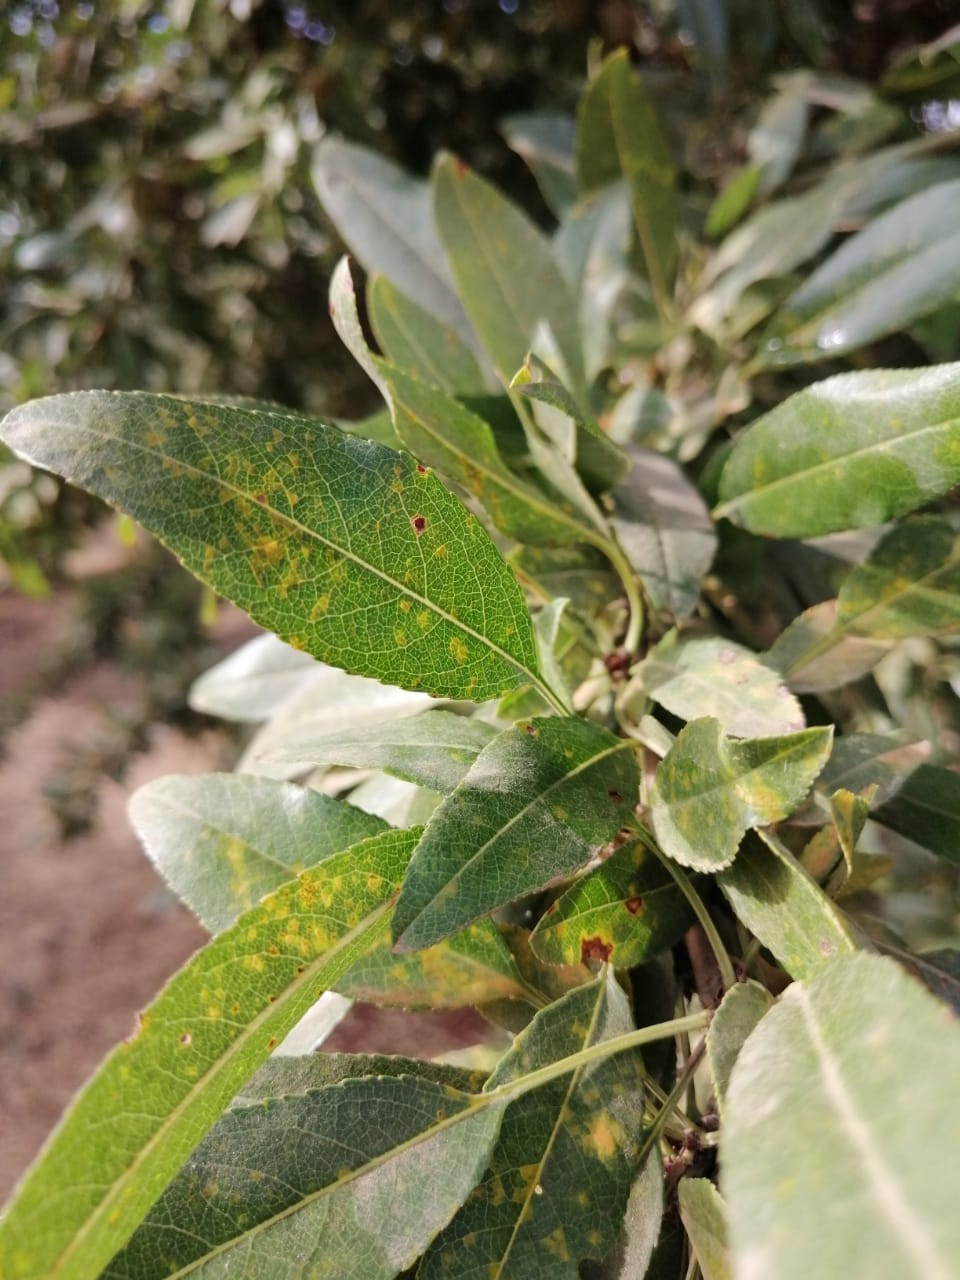rouille: (3, 823, 425, 1280), (2, 380, 544, 698), (390, 713, 646, 965), (528, 873, 651, 969)
